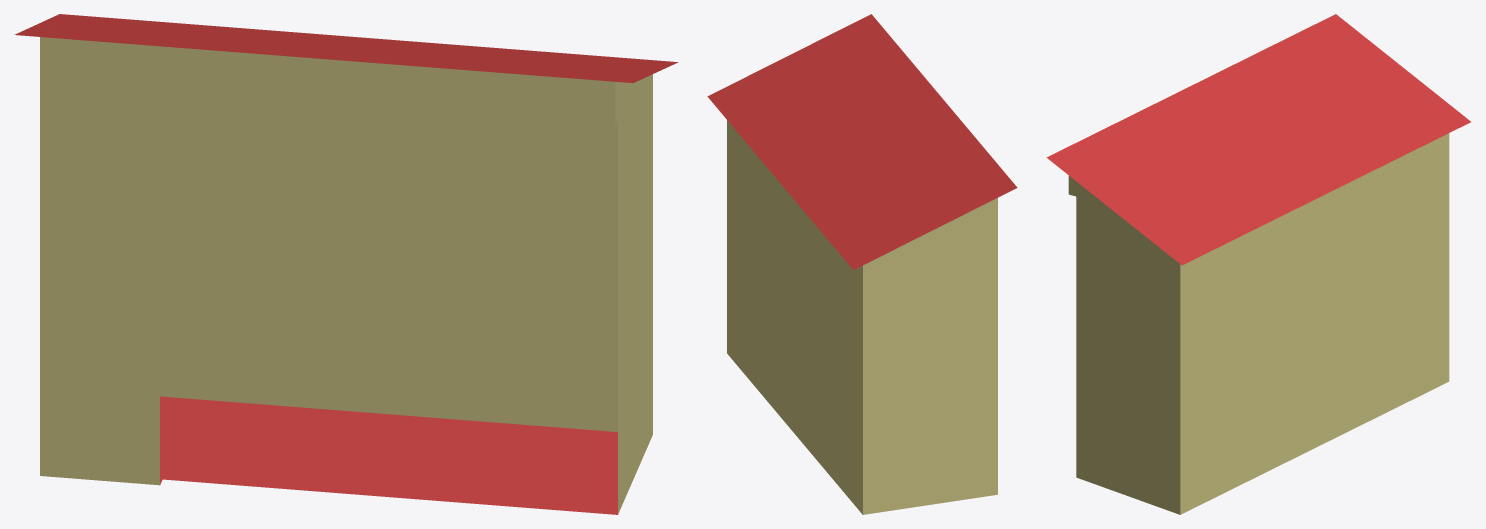
3 views of the same model, side by side, from view 1: azimuth 30°, elevation 25°; view 2: azimuth 150°, elevation 25°; view 3: azimuth 270°, elevation 25° (orthographic). The views are drawn at different scales.
Size of the model in its own units: 14.4 by 13.45 by 11.1.
